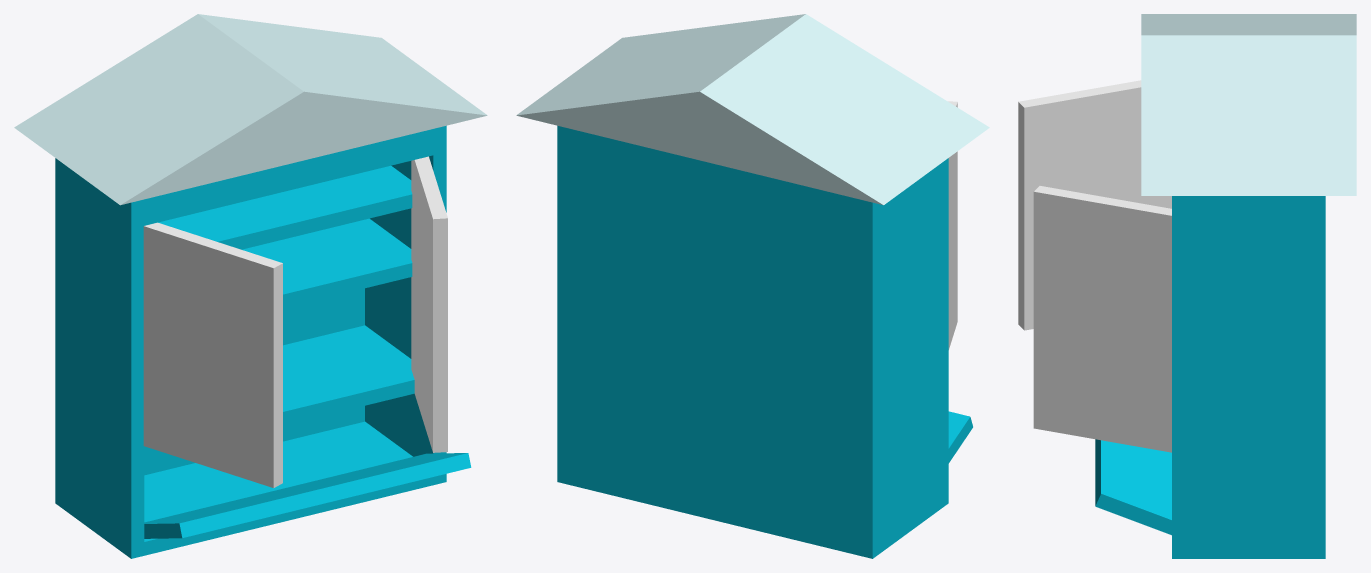
Rendered from Hutch.glb.
3 views of the same model, side by side, from view 1: azimuth 30°, elevation 25°; view 2: azimuth 150°, elevation 25°; view 3: azimuth 270°, elevation 25° (orthographic).
Parts seen in each view (by area): view 1: Roof, Door 2, Wall 2, Bottom, Shelf 1, Shelf 3, Top, Door 3, Shelf 2, Wall 1, Door 1, Wall 6 (+3 smaller); view 2: Wall 3, Roof, Wall 4, Wall 2, Top, Wall 1, Bottom, Shelf 1, Shelf 2, Shelf 3, Wall 6, Door 2 (+2 smaller); view 3: Roof, Door 3, Wall 6, Door 2, Wall 5, Door 1, Top, Wall 3, Bottom, Shelf 3, Shelf 1, Shelf 2 (+1 smaller).
Boxes of the visible parts, x1=… form: Roof: x1=14, y1=14, x2=487, y2=205; Door 2: x1=143, y1=222, x2=282, y2=487; Wall 2: x1=55, y1=160, x2=144, y2=462; Bottom: x1=55, y1=421, x2=446, y2=558; Shelf 1: x1=55, y1=165, x2=412, y2=277; Shelf 3: x1=55, y1=325, x2=414, y2=462; Top: x1=55, y1=125, x2=446, y2=228; Door 3: x1=411, y1=156, x2=447, y2=452; Shelf 2: x1=55, y1=218, x2=412, y2=308; Wall 1: x1=55, y1=394, x2=144, y2=558; Door 1: x1=144, y1=453, x2=471, y2=538; Wall 6: x1=365, y1=138, x2=446, y2=358; Wall 3: x1=557, y1=139, x2=880, y2=461; Roof: x1=516, y1=14, x2=989, y2=205; Wall 4: x1=557, y1=379, x2=880, y2=557; Wall 2: x1=859, y1=160, x2=948, y2=448; Top: x1=557, y1=125, x2=948, y2=228; Wall 1: x1=859, y1=395, x2=948, y2=558; Bottom: x1=557, y1=468, x2=948, y2=558; Shelf 1: x1=557, y1=193, x2=940, y2=283; Shelf 2: x1=557, y1=263, x2=905, y2=352; Shelf 3: x1=557, y1=374, x2=948, y2=462; Wall 6: x1=557, y1=139, x2=570, y2=388; Door 2: x1=948, y1=101, x2=957, y2=349; Roof: x1=1141, y1=14, x2=1356, y2=195; Door 3: x1=1033, y1=186, x2=1171, y2=452; Wall 6: x1=1172, y1=210, x2=1325, y2=460; Door 2: x1=1018, y1=80, x2=1171, y2=330; Wall 5: x1=1172, y1=447, x2=1325, y2=558; Door 1: x1=1095, y1=439, x2=1171, y2=535; Top: x1=1172, y1=196, x2=1325, y2=224; Wall 3: x1=1310, y1=210, x2=1325, y2=461; Bottom: x1=1172, y1=545, x2=1325, y2=558; Shelf 3: x1=1172, y1=447, x2=1325, y2=461; Shelf 1: x1=1187, y1=266, x2=1325, y2=280; Shelf 2: x1=1187, y1=336, x2=1325, y2=349.
Bounding box in the file's own units: 88.9 × 102 × 69.85.
